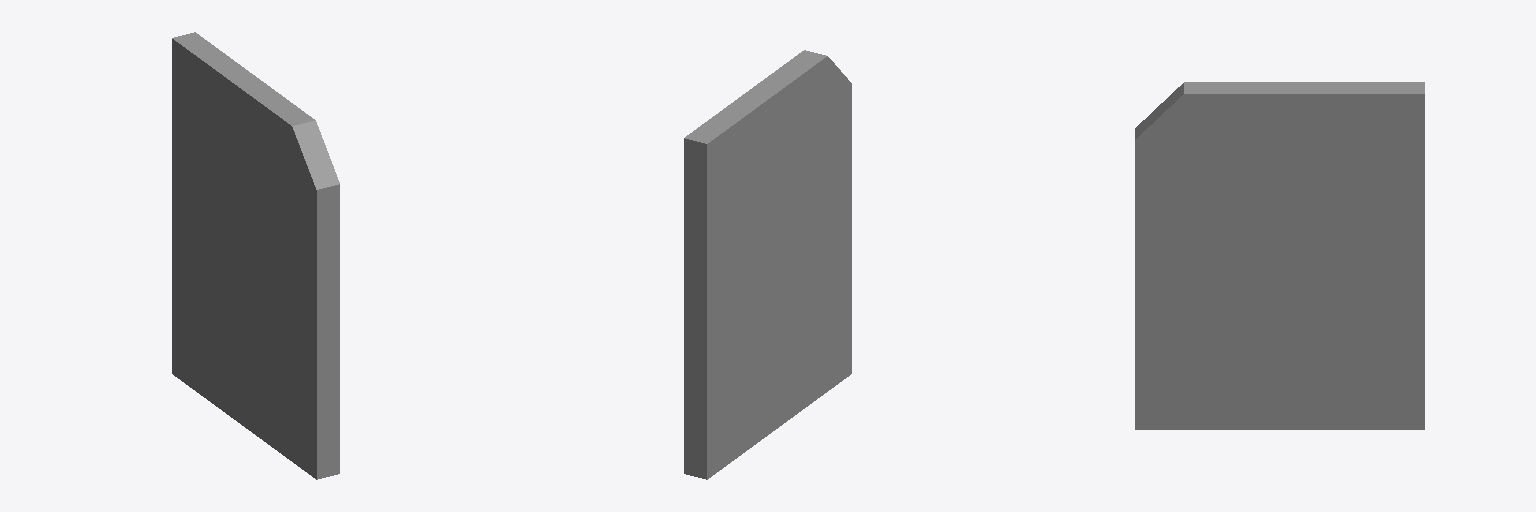
The model's file is keycard.obj.
The picture shows the model from 3 angles: view 1: azimuth 30°, elevation 25°; view 2: azimuth 150°, elevation 25°; view 3: azimuth 270°, elevation 25°; orthographic projection.
Visible parts, largest first — view 1: Cube; view 2: Cube; view 3: Cube.
Part boxes in pixels (x1,y1,x2,y2): Cube: (172,32,339,479); Cube: (684,50,851,479); Cube: (1135,82,1424,429).
Bounding box in the file's own units: 0.1716 × 2.32 × 1.81.